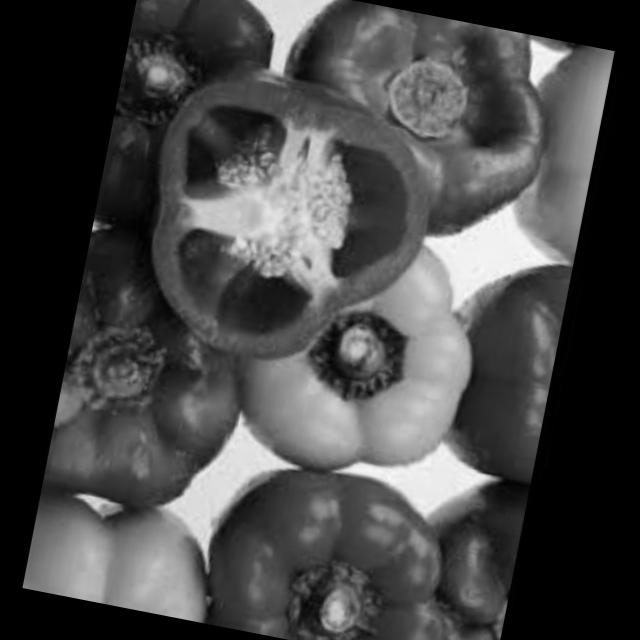ot chuong: (127, 41, 459, 390), (219, 212, 500, 508), (259, 0, 570, 249), (42, 238, 287, 534), (181, 442, 474, 640), (94, 0, 301, 257), (433, 238, 577, 494), (488, 36, 618, 278), (25, 489, 242, 626), (424, 450, 536, 640)
